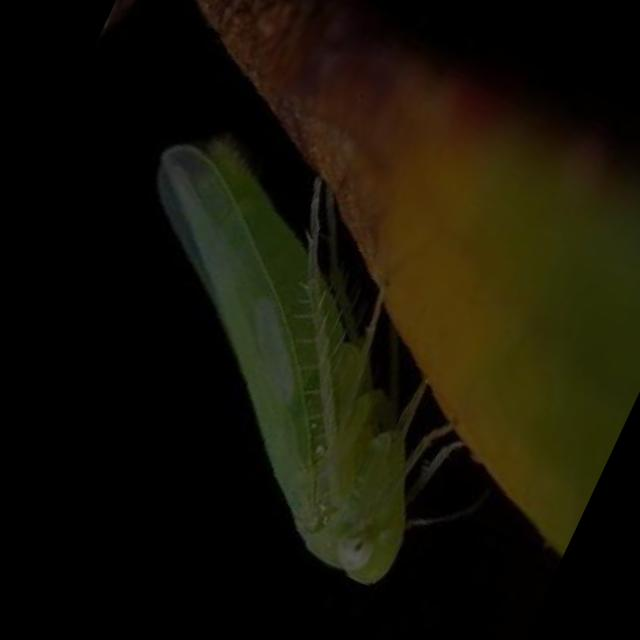green-leafhopper: (44, 70, 545, 590)
